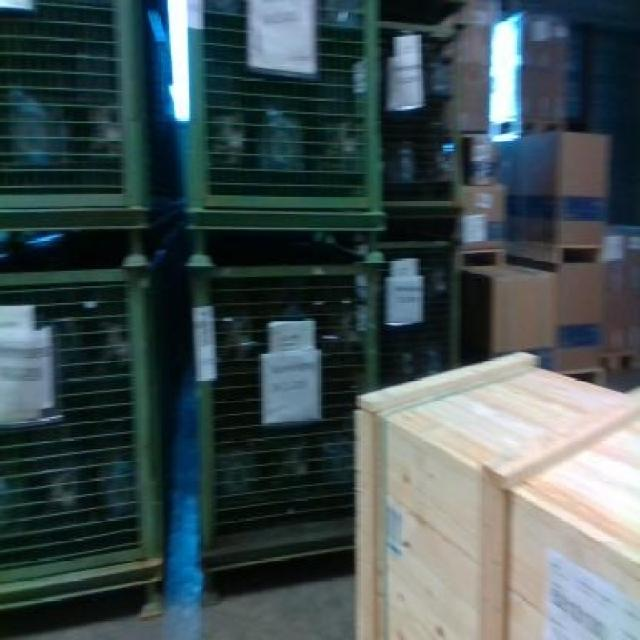pallets: (354, 352, 637, 637)
